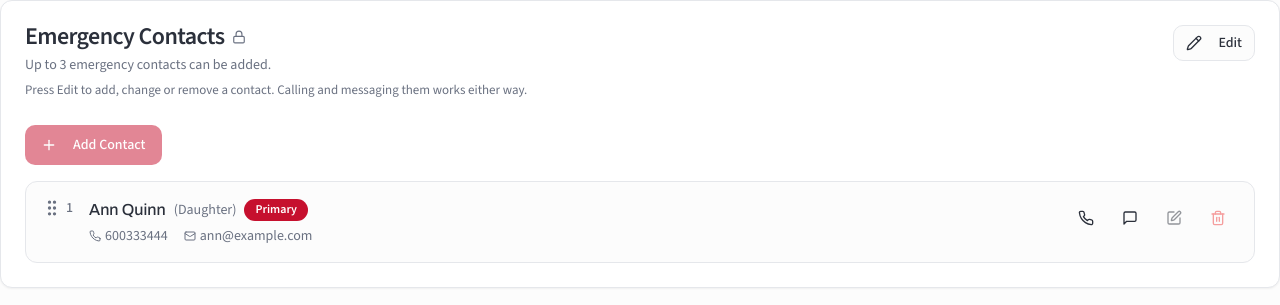
Test: emergency contacts › says what Edit is for, while locked
Expected: the text with test id "contacts-card-manage-hint" is shown, [25,81,527,100]
Expected: the text with test id "contacts-card-manage-hint" shows "add, change or remove", [25,81,527,99]
# And it goes away once the controls are armed — it was an instruction, not a caption.
Click the button with test id "contacts-card-edit": point(1214, 43) [1173,25,1255,61]
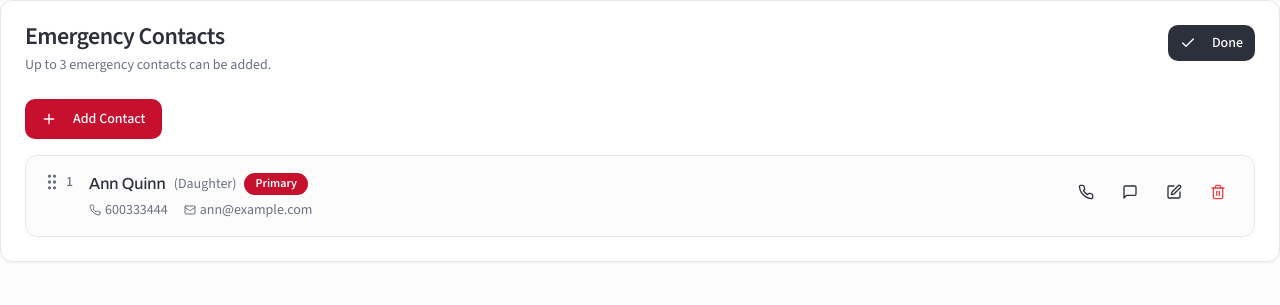
Expected: the text with test id "contacts-card-manage-hint" is gone
